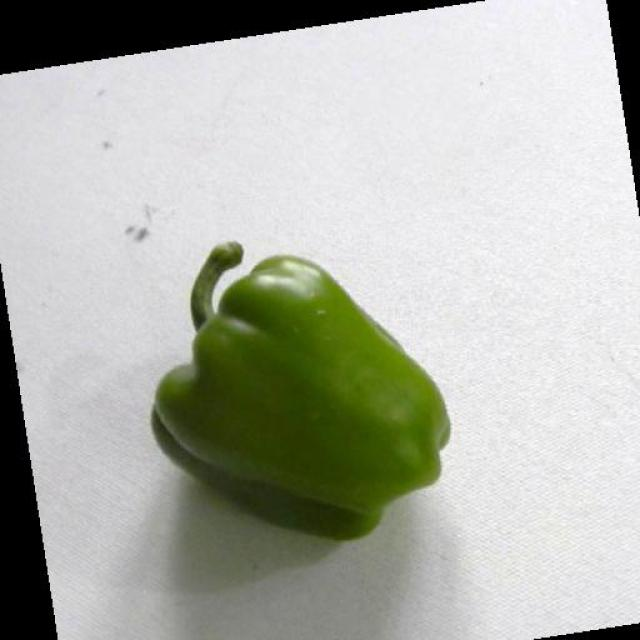Fresh_Capsicum: (149, 253, 461, 492)
